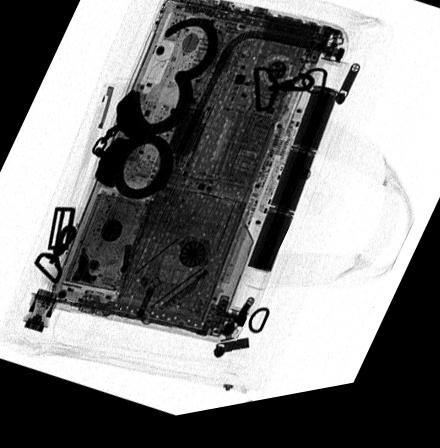HandCuffs: (89, 24, 219, 205)
